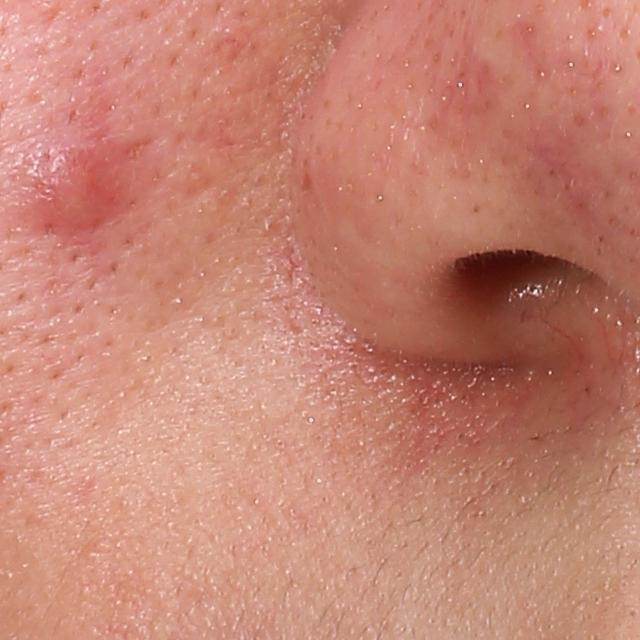papule: (27, 137, 126, 234)
